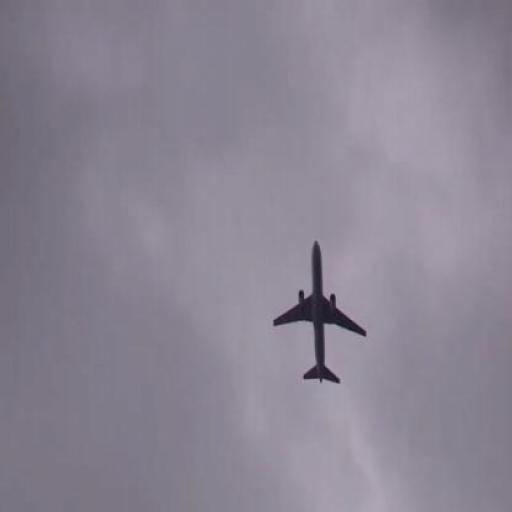aircraft: (271, 240, 368, 383)
